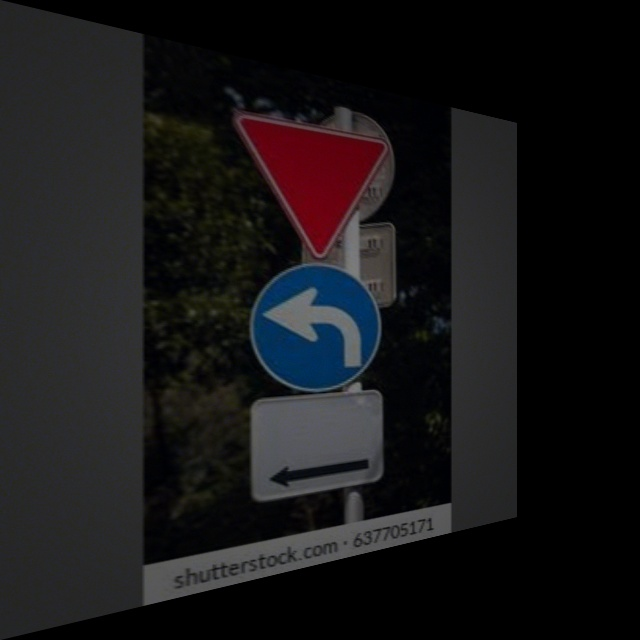Compulsory_Turn_Left_Ahead: (250, 262, 382, 394)
